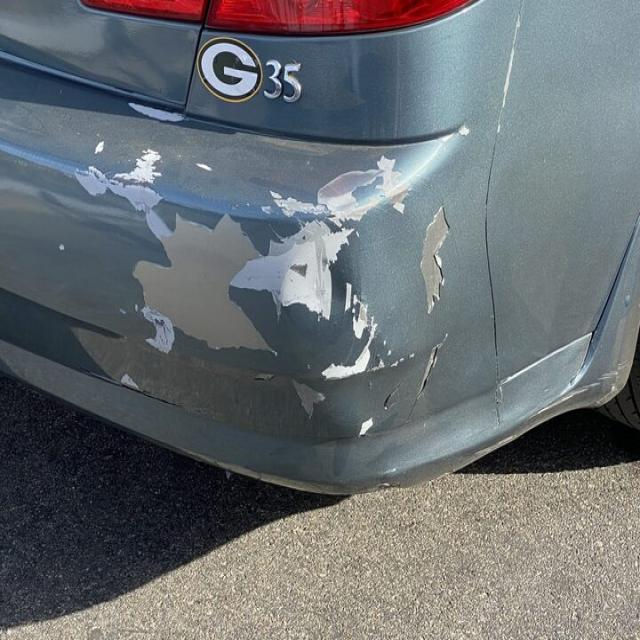paint-chip: (66, 136, 331, 441), (231, 149, 415, 325), (374, 184, 464, 459)
